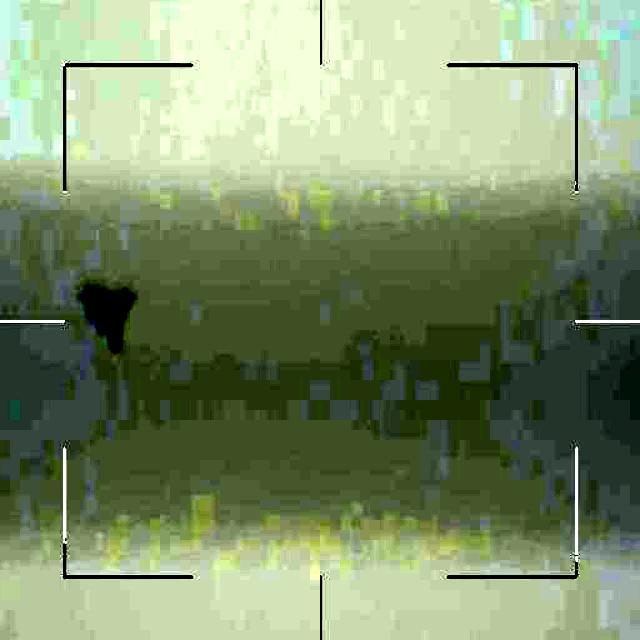bird: (81, 276, 140, 360)
